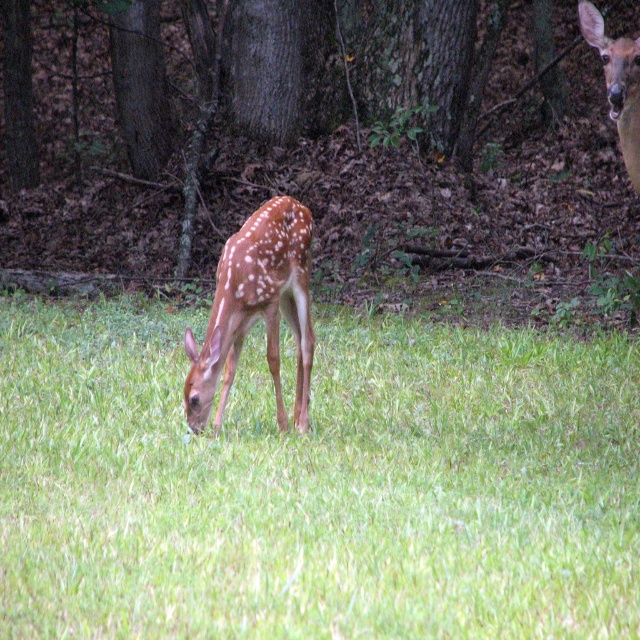Deer: (182, 192, 316, 439)
